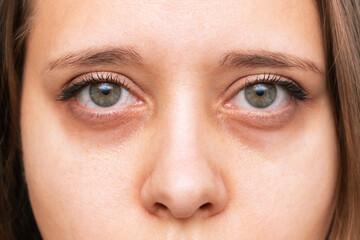Eyebags: (219, 104, 299, 146), (64, 108, 142, 148)
